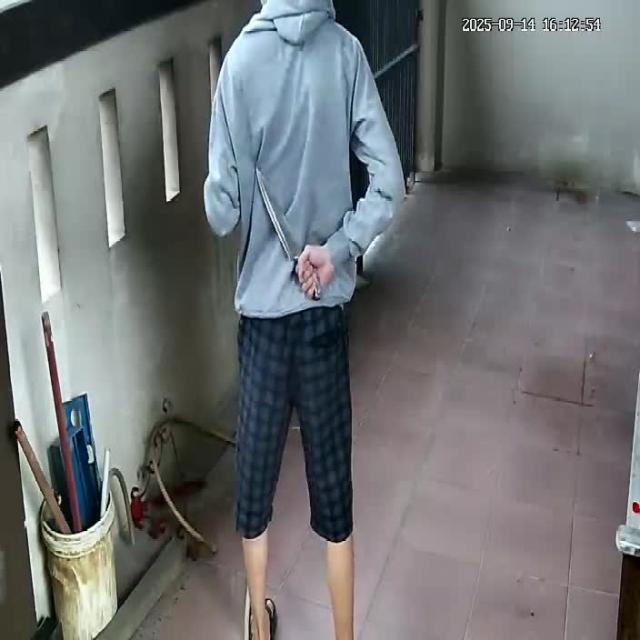senjata_tajam: (252, 163, 304, 264)
